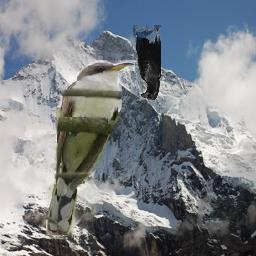Crow: (133, 26, 161, 101)
Cuckoo: (47, 60, 136, 236)
